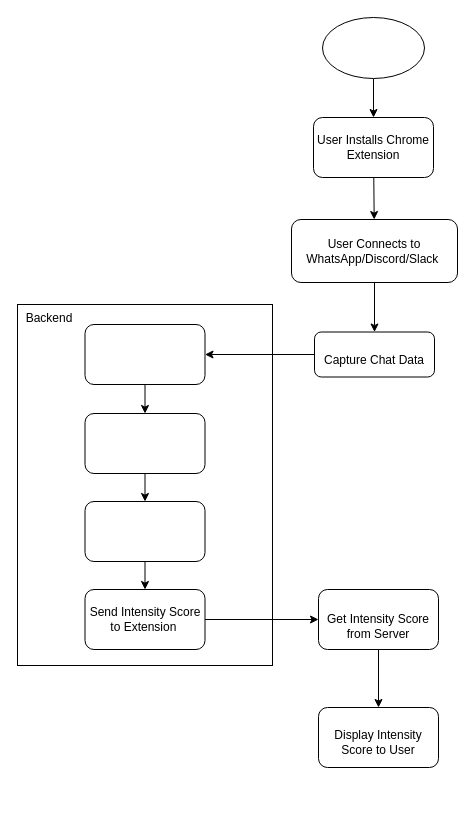
Some shapes in this 475 by 818 pixel diagram are drawn without their labels. The shapes that lost their labels are listed below. From the top down, each one's centre as x and y in pixels, then its label:
[373,47]: Start
[144,354]: Receive Chat Data from Extension
[144,443]: Preprocess Chat Data
[144,531]: Run Llama3 Model for Intensity Analysis
